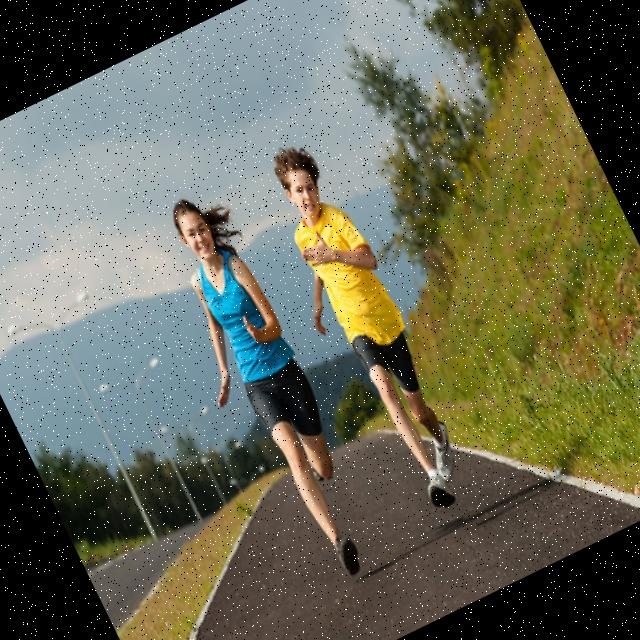Person: (130, 182, 398, 598), (239, 133, 490, 528)
